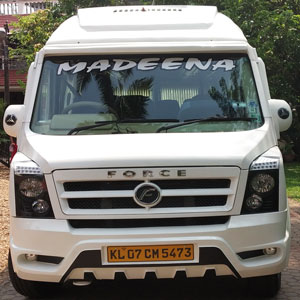numberplate: (106, 244, 196, 264)
